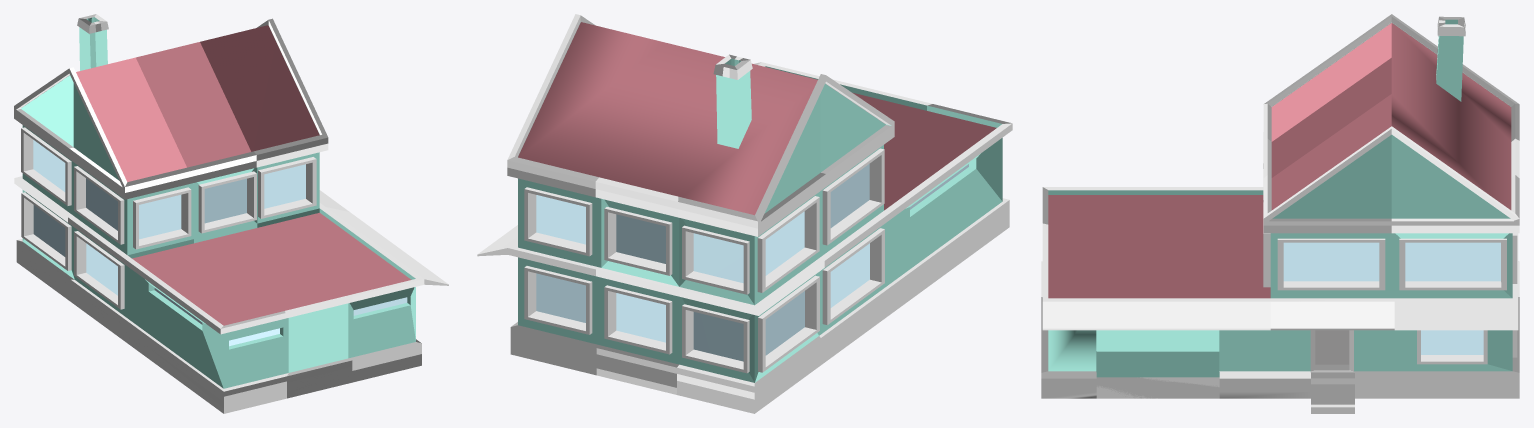
The model's file is house5.glb.
The picture shows the model from 3 angles, left to right: view 1: azimuth 30°, elevation 25°; view 2: azimuth 150°, elevation 25°; view 3: azimuth 270°, elevation 25°; orthographic projection. The views are drawn at different scales.
Parts seen in each view (by area): view 1: Cube_18_11; view 2: Cube_18_11; view 3: Cube_18_11.
Boxes of the visible parts, x1,y1,x2,y2 form: Cube_18_11: (14,14,448,413); Cube_18_11: (477,14,1012,413); Cube_18_11: (1041,14,1519,413).
Size of the model in its own units: 0.3379 by 0.3572 by 0.5308.
